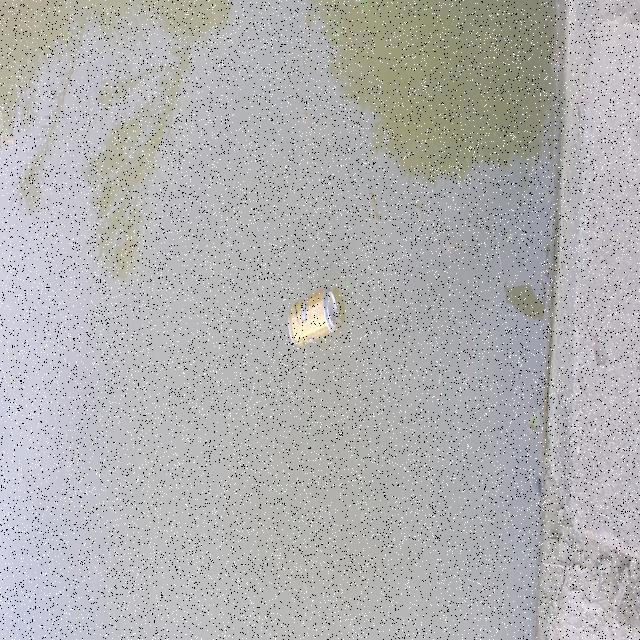Can: (277, 288, 354, 357)
